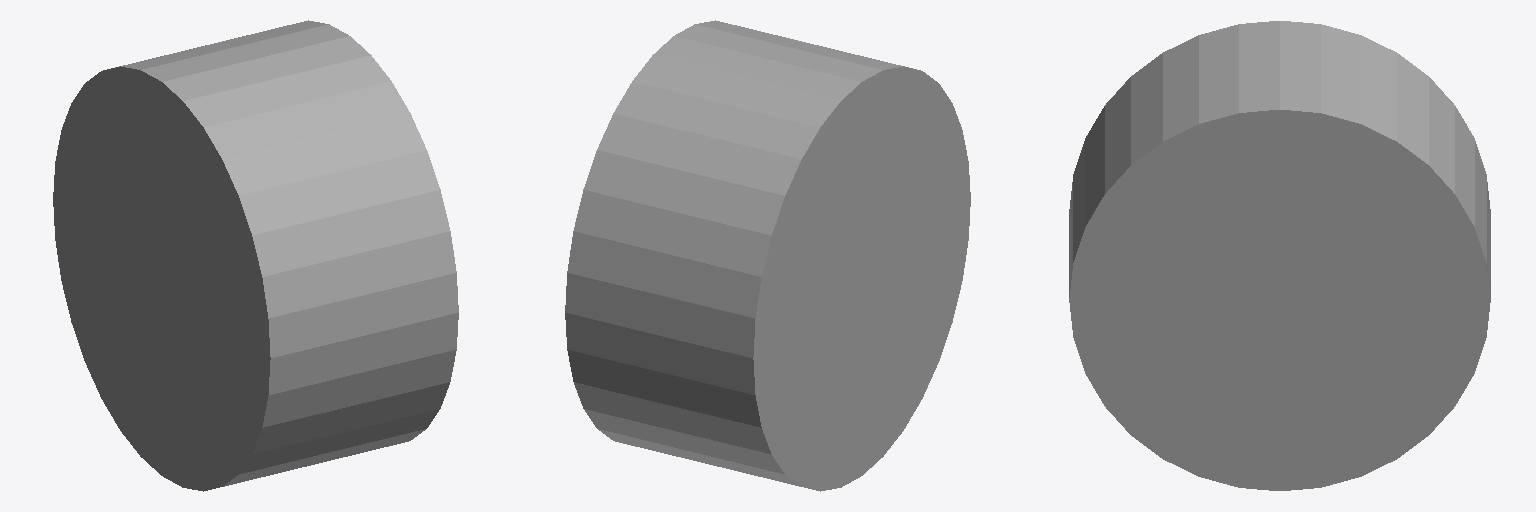
The robot description file, URDF, robot "rizon4s":
<?xml version="1.0"?>
<!-- ======================================================================== -->
<!-- | Flexiv Rizon 4s (with blurred dynamic parameters)                    | -->
<!-- ======================================================================== -->
<robot name="rizon4s">
    <joint name="joint1" type="revolute">
        <parent link="base_link"/>
        <child link="link1"/>
        <origin rpy="0.0 0.0 -3.141592653589793" xyz="0.0 0.0 0.155"/>
        <axis xyz="0 0 1"/>
        <limit effort="123" lower="-2.7925" upper="2.7925" velocity="2.0944"/>
    </joint> 
    <joint name="joint2" type="revolute">
        <parent link="link1"/>
        <child link="link2"/>
        <origin rpy="0.0 0.0 0.0" xyz="0.0 0.03 0.21"/>
        <axis xyz="0 1 0"/>
        <limit effort="123" lower="-2.2689" upper="2.2689" velocity="2.0944"/>
    </joint>
    <joint name="joint3" type="revolute">
        <parent link="link2"/>
        <child link="link3"/>
        <origin rpy="0.0 0.0 0.0" xyz="0.0 0.035 0.205"/>
        <axis xyz="0 0 1"/>
        <limit effort="64" lower="-2.9671" upper="2.9671" velocity="2.4435"/>
    </joint>
    <joint name="joint4" type="revolute">
        <parent link="link3"/>
        <child link="link4"/>
        <origin rpy="0.0 0.0 -3.141592653589793" xyz="-0.02 -0.03 0.19"/>
        <axis xyz="0 1 0"/>
        <limit effort="64" lower="-1.8675" upper="2.6878" velocity="2.4435"/>
    </joint>
    <joint name="joint5" type="revolute">
        <parent link="link4"/>
        <child link="link5"/>
        <origin rpy="0.0 0.0 -3.141592653589793" xyz="-0.02 0.025 0.195"/>
        <axis xyz="0 0 1"/>
        <limit effort="39" lower="-2.9671" upper="2.9671" velocity="4.8869"/>
    </joint>
    <joint name="joint6" type="revolute">
        <parent link="link5"/>
        <child link="link6"/>
        <origin rpy="0.0 0.0 0.0" xyz="0.0 0.03 0.19"/>
        <axis xyz="0 1 0"/>
        <limit effort="39" lower="-1.3963" upper="4.5379" velocity="4.8869"/>
    </joint>
    <joint name="joint7" type="revolute">
        <parent link="link6"/>
        <child link="link7"/>
        <origin rpy="0.0 -1.5707963478683205 0.0" xyz="-0.015 0.073 0.11"/>
        <axis xyz="0 0 1"/>
        <limit effort="39" lower="-2.9671" upper="2.9671" velocity="4.8869"/>
    </joint>
    <joint name="link7_to_flange" type="fixed">
        <parent link="link7"/>
        <child link="flange"/>
        <origin rpy="0.0 0.0 -3.141592653589793" xyz="0.0 0.0 0.124"/>
    </joint>
    <joint name="link7_to_payload" type="fixed">
        <parent link="link7"/>
        <child link="payload"/>
        <origin rpy="0.0 0.0 -3.141592653589793" xyz="0.0 0.0 0.150"/>
    </joint>
    <link name="base_link">
        <inertial>
            <mass value="3.7"/>
            <origin rpy="0 0 0" xyz="0.0 -0.0 0.09"/>
            <inertia ixx="0.02" ixy="0.0" ixz="0.0" iyy="0.02" iyz="0.0" izz="0.01"/>
        </inertial>
        <visual name="shell">
            <origin rpy="0 0 0" xyz="0 0 0"/>
            <geometry>
                <mesh filename="package://meshes/rizon4s/visual/link0.obj"/>
            </geometry>
            <material name="rizon_light_grey"/>
        </visual>
        <collision name="hull">
            <origin rpy="0 0 0" xyz="0 0 0"/>
            <geometry>
                <mesh filename="package://meshes/rizon4s/collision/link0.stl"/>
            </geometry>
        </collision>
    </link>
    <link name="link1">
        <inertial>
            <mass value="3.7"/>
            <origin rpy="0 0 0" xyz="0.0 0.01 0.15"/>
            <inertia ixx="0.03" ixy="0.0" ixz="0.0" iyy="0.03" iyz="0.0" izz="0.01"/>
        </inertial>
        <visual name="shell">
            <origin rpy="0 0 0" xyz="0 0 0"/>
            <geometry>
                <mesh filename="package://meshes/rizon4s/visual/link1.obj"/>
            </geometry>
            <material name="rizon_light_grey"/>
        </visual>
        <visual name="ring">
            <origin rpy="0 0 0" xyz="0 0 -0.0025"/>
            <geometry>
                <mesh filename="package://meshes/rizon4s/visual/ring.obj" scale="0.062 0.062 0.002"/>
            </geometry>
            <material name="rizon_white"/>
        </visual>
        <collision name="hull">
            <origin rpy="0 0 0" xyz="0 0 0"/>
            <geometry>
                <mesh filename="package://meshes/rizon4s/collision/link1.stl"/>
            </geometry>
        </collision>
    </link>
    <link name="link2">
        <inertial>
            <mass value="2.7"/>
            <origin rpy="0 0 0" xyz="0.0 0.04 0.1"/>
            <inertia ixx="0.02" ixy="0.0" ixz="0.0" iyy="0.02" iyz="-0.0" izz="0.01"/>
        </inertial>
        <visual name="shell">
            <origin rpy="0 0 0" xyz="0 0 0"/>
            <geometry>
                <mesh filename="package://meshes/rizon4s/visual/link2.obj"/>
            </geometry>
            <material name="rizon_light_grey"/>
        </visual>
        <visual name="ring">
            <origin rpy="1.5707963 0 0" xyz="0 -0.0025 0"/>
            <geometry>
                <mesh filename="package://meshes/rizon4s/visual/ring.obj" scale="0.062 0.062 0.002"/>
            </geometry>
            <material name="rizon_white"/>
        </visual>
        <collision name="hull">
            <origin rpy="0 0 0" xyz="0 0 0"/>
            <geometry>
                <mesh filename="package://meshes/rizon4s/collision/link2.stl"/>
            </geometry>
        </collision>
    </link>
    <link name="link3">
        <inertial>
            <mass value="2.4"/>
            <origin rpy="0 0 0" xyz="-0.01 -0.0 0.13"/>
            <inertia ixx="0.01" ixy="0.0" ixz="-0.0" iyy="0.01" iyz="-0.0" izz="0.01"/>
        </inertial>
        <visual name="shell">
            <origin rpy="0 0 0" xyz="0 0 0"/>
            <geometry>
                <mesh filename="package://meshes/rizon4s/visual/link3.obj"/>
            </geometry>
            <material name="rizon_light_grey"/>
        </visual>
        <visual name="ring">
            <origin rpy="0 0 0" xyz="0 0 -0.0025"/>
            <geometry>
                <mesh filename="package://meshes/rizon4s/visual/ring.obj" scale="0.051 0.051 0.002"/>
            </geometry>
            <material name="rizon_white"/>
        </visual>
        <collision name="hull">
            <origin rpy="0 0 0" xyz="0 0 0"/>
            <geometry>
                <mesh filename="package://meshes/rizon4s/collision/link3.stl"/>
            </geometry>
        </collision>
    </link>
    <link name="link4">
        <inertial>
            <mass value="2.4"/>
            <origin rpy="0 0 0" xyz="-0.01 0.03 0.1"/>
            <inertia ixx="0.02" ixy="0.0" ixz="-0.0" iyy="0.02" iyz="-0.0" izz="0.01"/>
        </inertial>
        <visual name="shell">
            <origin rpy="0 0 0" xyz="0 0 0"/>
            <geometry>
                <mesh filename="package://meshes/rizon4s/visual/link4.obj"/>
            </geometry>
            <material name="rizon_light_grey"/>
        </visual>
        <visual name="ring">
            <origin rpy="1.5707963 0 0" xyz="0 -0.0025 0"/>
            <geometry>
                <mesh filename="package://meshes/rizon4s/visual/ring.obj" scale="0.051 0.051 0.002"/>
            </geometry>
            <material name="rizon_white"/>
        </visual>
        <collision name="hull">
            <origin rpy="0 0 0" xyz="0 0 0"/>
            <geometry>
                <mesh filename="package://meshes/rizon4s/collision/link4.stl"/>
            </geometry>
        </collision>
    </link>
    <link name="link5">
        <inertial>
            <mass value="2.4"/>
            <origin rpy="0 0 0" xyz="-0.0 0.0 0.13"/>
            <inertia ixx="0.01" ixy="0.0" ixz="0.0" iyy="0.01" iyz="0.0" izz="0.01"/>
        </inertial>
        <visual name="shell">
            <origin rpy="0 0 0" xyz="0 0 0"/>
            <geometry>
                <mesh filename="package://meshes/rizon4s/visual/link5.obj"/>
            </geometry>
            <material name="rizon_light_grey"/>
        </visual>
        <visual name="ring">
            <origin rpy="0 0 0" xyz="0 0 -0.0025"/>
            <geometry>
                <mesh filename="package://meshes/rizon4s/visual/ring.obj" scale="0.051 0.051 0.002"/>
            </geometry>
            <material name="rizon_white"/>
        </visual>
        <collision name="hull">
            <origin rpy="0 0 0" xyz="0 0 0"/>
            <geometry>
                <mesh filename="package://meshes/rizon4s/collision/link5.stl"/>
            </geometry>
        </collision>
    </link>
    <link name="link6">
        <inertial>
            <mass value="2.2"/>
            <origin rpy="0 0 0" xyz="0.02 0.06 0.07"/>
            <inertia ixx="0.01" ixy="0.0" ixz="0.0" iyy="0.01" iyz="0.0" izz="0.01"/>
        </inertial>
        <visual name="shell">
            <origin rpy="0 0 0" xyz="0 0 0"/>
            <geometry>
                <mesh filename="package://meshes/rizon4s/visual/link6.obj"/>
            </geometry>
            <material name="rizon_light_grey"/>
        </visual>
        <visual name="ring">
            <origin rpy="1.5707963 0 0" xyz="0 -0.0025 0"/>
            <geometry>
                <mesh filename="package://meshes/rizon4s/visual/ring.obj" scale="0.051 0.051 0.002"/>
            </geometry>
            <material name="rizon_white"/>
        </visual>
        <collision name="hull">
            <origin rpy="0 0 0" xyz="0 0 0"/>
            <geometry>
                <mesh filename="package://meshes/rizon4s/collision/link6.stl"/>
            </geometry>
        </collision>
    </link>
    <link name="link7">
        <inertial>
            <mass value="1.4"/>
            <origin rpy="0 0 0" xyz="0.0 0.0 0.05"/>
            <inertia ixx="0.1" ixy="0.0" ixz="0.0" iyy="0.1" iyz="0.0" izz="0.1"/>
        </inertial>
        <visual name="shell">
            <origin rpy="0 0 0" xyz="0 0 0"/>
            <geometry>
                <mesh filename="package://meshes/rizon4s/visual/link7.obj"/>
            </geometry>
            <material name="rizon_light_grey"/>
        </visual>
        <visual name="ring">
            <origin rpy="0 0 0" xyz="0 0 -0.0025"/>
            <geometry>
                <mesh filename="package://meshes/rizon4s/visual/ring.obj" scale="0.051 0.051 0.002"/>
            </geometry>
            <material name="rizon_white"/>
        </visual>
        <collision name="hull">
            <origin rpy="0 0 0" xyz="0 0 0"/>
            <geometry>
                <mesh filename="package://meshes/rizon4s/collision/link7.stl"/>
            </geometry>
        </collision>
    </link>
    <link name="payload">
        <inertial>
            <mass value="0.893"/>
            <origin rpy="0 0 0" xyz="0.0 0.0 0"/>
            <inertia ixx="0.1" ixy="0.0" ixz="0.0" iyy="0.1" iyz="0.0" izz="0.1"/>
        </inertial>
        <visual name="shell">
            <origin rpy="0 0 0" xyz="0 0 0"/>
            <geometry>
                <cylinder radius="0.02" length="0.02"/>
            </geometry>
            <material name="rizon_light_grey"/>
        </visual>
        <collision name="shell">
            <origin rpy="0 0 0" xyz="0 0 0"/>
            <geometry>
                <cylinder radius="0.02" length="0.02"/>
            </geometry>
        </collision>
    </link>
    <link name="flange"/>
    <material name="rizon_light_grey">
        <color rgba="0.7 0.7 0.7 1.0"/>
    </material>
    <material name="rizon_dark_grey">
        <color rgba="0.4 0.4 0.4 1.0"/>
    </material>
    <material name="rizon_white">
        <color rgba="1.0 1.0 1.0 1.0"/>
    </material>
</robot>

--- Facts derived from the render (not from the file) ---
Views: 3 orthographic renders of the robot side by side, from view 1: azimuth 30°, elevation 25°; view 2: azimuth 150°, elevation 25°; view 3: azimuth 270°, elevation 25°.
Model rizon4s with 10 links and 9 joints (7 revolute, 2 fixed), rooted at base_link, posed all joints at 0.
Links seen in each view (by area): view 1: payload; view 2: payload; view 3: payload.
Link boxes in pixels (<box>): payload: <box>53,20,458,491</box>; payload: <box>565,20,970,491</box>; payload: <box>1069,21,1490,490</box>.
Size in the robot's own frame: 0.02 by 0.04 by 0.04 metres.
Meshes: 9 distinct files referenced, 0 mesh visuals loaded (none loaded); not drawn: 15 (reference not matched to a file when rendering).